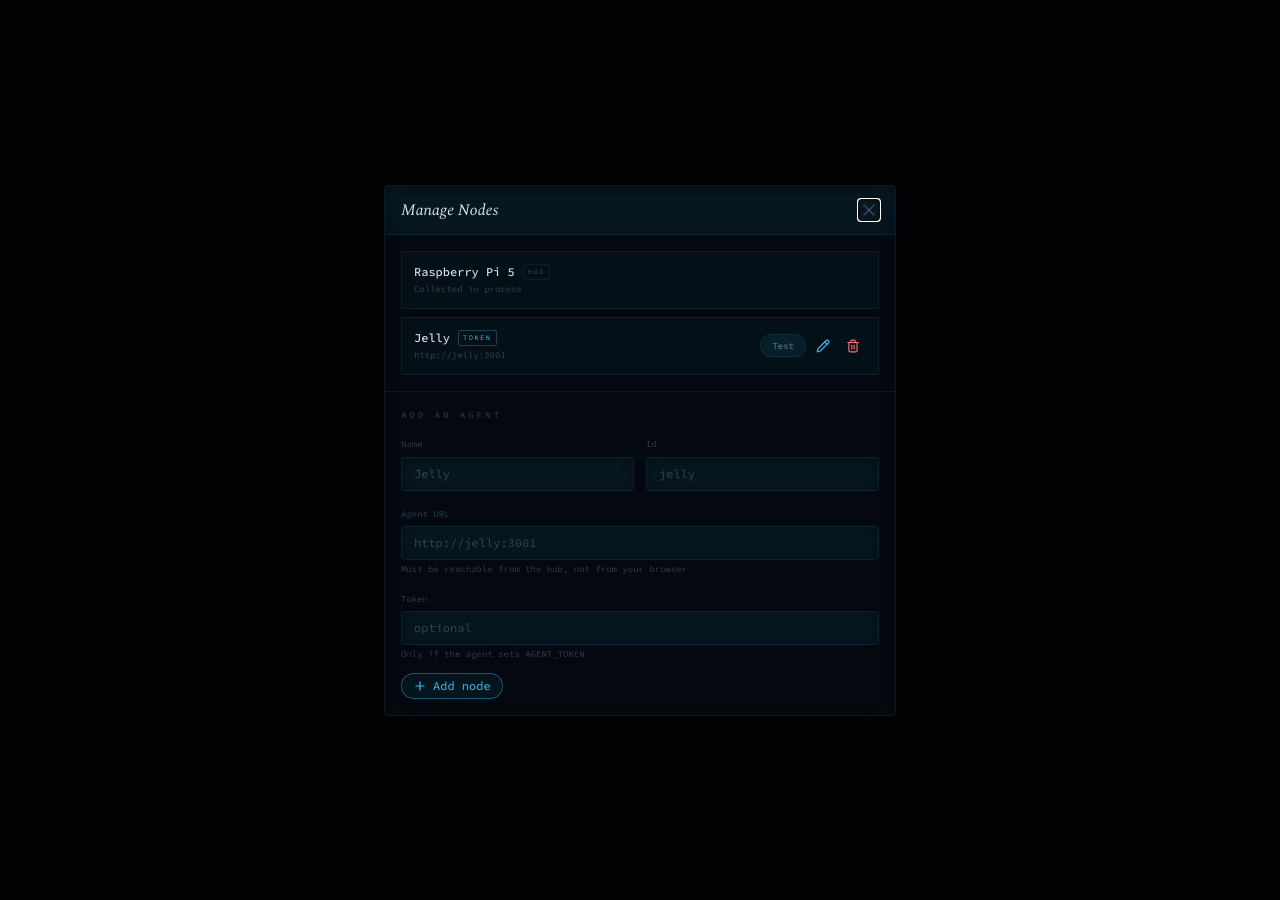
Test: editing › can cancel an edit
Click the button titled "Edit Jelly": [823, 346] box x1=810 y1=332 x2=836 y2=358
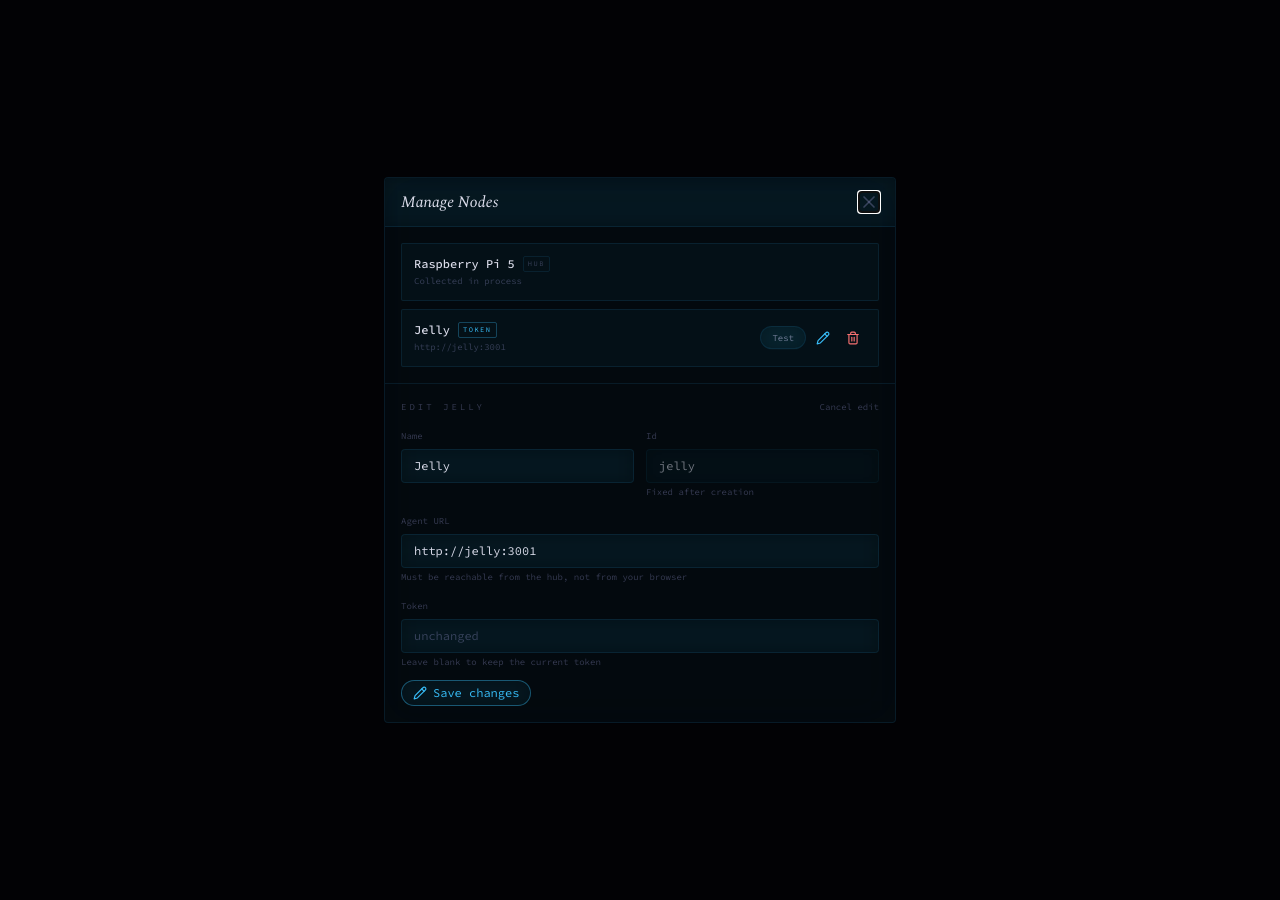
Click the button "Cancel edit": [849, 407] box x1=820 y1=400 x2=879 y2=413
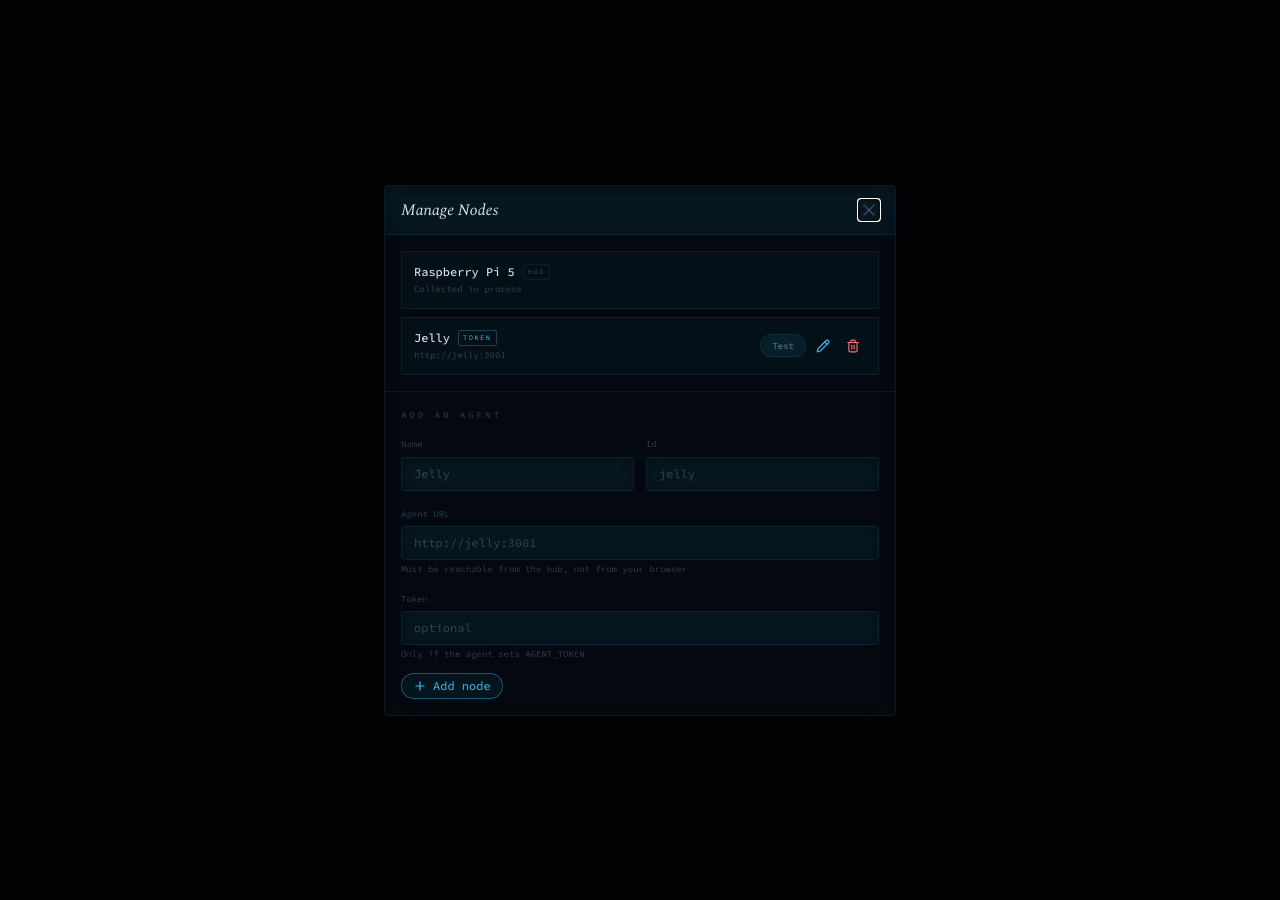
expect the heading "Add an agent" is shown: met, box x1=401 y1=408 x2=502 y2=421
